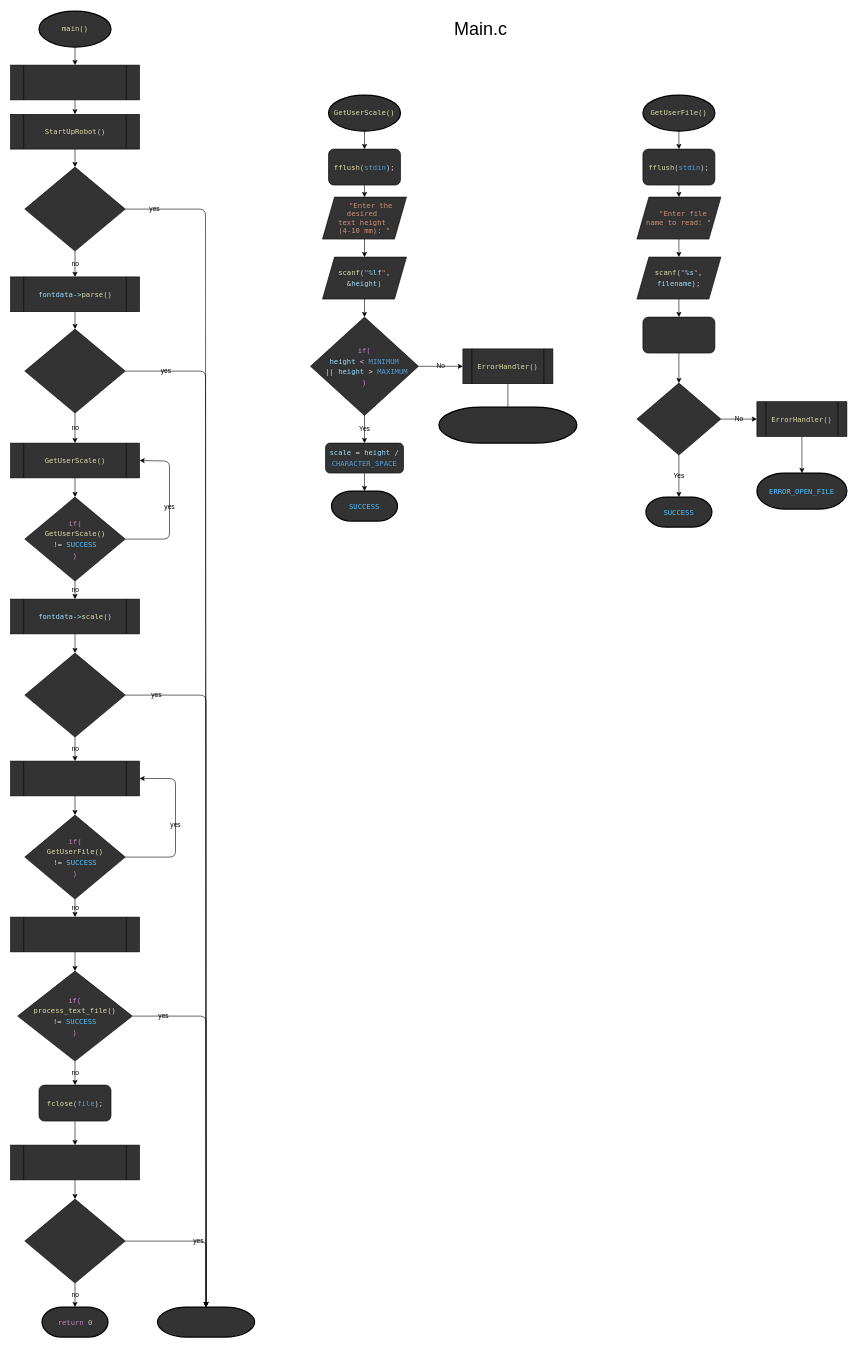
This 858x1348 diagram has some shape labels left out. The box of each missing label's shape, as (x1, y1, x2, y2) in pixels:
ERROR_INVALID_SCALE_INPUT: (438, 406, 577, 443)
exit ( EXIT_FAILURE ): (157, 1306, 255, 1337)
fontdata-> free(): (10, 1144, 140, 1180)
fontDataConstructor(): (10, 64, 140, 100)
fopen ( filename , "r" );: (642, 316, 715, 353)
GetUserFile(): (10, 760, 140, 796)
if ( !* file ): (636, 382, 721, 455)
if( fontdata -> parse() != SUCCESS ): (24, 328, 125, 413)
if( fontdata -> scale() != SUCCESS ): (24, 652, 125, 737)
if( fontdata-> free () != SUCCESS ): (24, 1198, 125, 1283)
if( StartUpRobot () != SUCCESS ): (24, 166, 125, 251)
process_text_file (): (10, 916, 140, 952)
